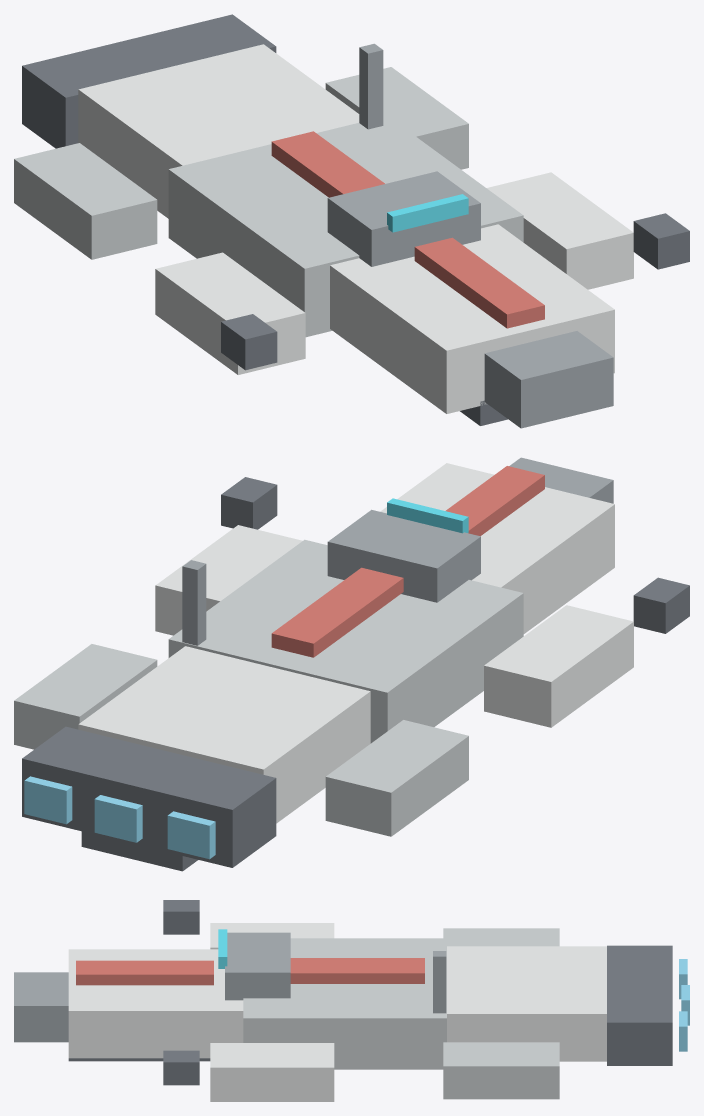
Rendered from micro_blockade_runner_v1.glb.
3 renders of one model, top to bottom at view 1: azimuth 30°, elevation 25°; view 2: azimuth 150°, elevation 25°; view 3: azimuth 270°, elevation 25°, orthographic. The views are drawn at different scales.
Visible parts, largest first — view 1: mid_hull, front_hull, rear_hull, left_pod_rear, engine_block, left_pod_front, nose_cap, right_pod_front, bridge_base, red_spine_front, right_pod_rear, red_spine_mid (+5 smaller); view 2: mid_hull, rear_hull, engine_block, front_hull, left_pod_front, left_pod_rear, bridge_base, right_pod_rear, right_pod_front, red_spine_mid, red_spine_front, left_side_turret (+8 smaller); view 3: mid_hull, rear_hull, front_hull, engine_block, right_pod_front, right_pod_rear, bridge_base, nose_cap, red_spine_front, red_spine_mid, left_pod_rear, left_pod_front (+6 smaller).
Part boxes in pixels (x1=…): mid_hull: x1=168, y1=116, x2=523, y2=337; front_hull: x1=330, y1=224, x2=614, y2=413; rear_hull: x1=78, y1=44, x2=359, y2=218; left_pod_rear: x1=14, y1=143, x2=157, y2=259; engine_block: x1=22, y1=14, x2=276, y2=148; left_pod_front: x1=155, y1=252, x2=305, y2=374; nose_cap: x1=484, y1=331, x2=613, y2=428; right_pod_front: x1=486, y1=172, x2=633, y2=289; bridge_base: x1=327, y1=171, x2=480, y2=266; red_spine_front: x1=414, y1=237, x2=544, y2=328; right_pod_rear: x1=325, y1=67, x2=468, y2=169; red_spine_mid: x1=271, y1=131, x2=384, y2=197; mid_hull: x1=168, y1=539, x2=523, y2=743; rear_hull: x1=78, y1=646, x2=370, y2=823; engine_block: x1=22, y1=726, x2=276, y2=867; front_hull: x1=380, y1=463, x2=614, y2=633; left_pod_front: x1=484, y1=605, x2=633, y2=727; left_pod_rear: x1=325, y1=720, x2=468, y2=836; bridge_base: x1=327, y1=509, x2=480, y2=602; right_pod_rear: x1=14, y1=644, x2=157, y2=749; right_pod_front: x1=155, y1=525, x2=302, y2=635; red_spine_mid: x1=271, y1=567, x2=403, y2=657; red_spine_front: x1=446, y1=466, x2=544, y2=536; left_side_turret: x1=633, y1=577, x2=689, y2=633; mid_hull: x1=243, y1=938, x2=446, y2=1069; rear_hull: x1=447, y1=946, x2=606, y2=1061; front_hull: x1=68, y1=949, x2=243, y2=1058; engine_block: x1=607, y1=945, x2=672, y2=1065; right_pod_front: x1=210, y1=1043, x2=334, y2=1101; right_pod_rear: x1=443, y1=1042, x2=559, y2=1099; bridge_base: x1=225, y1=932, x2=290, y2=1000; nose_cap: x1=14, y1=972, x2=68, y2=1042; red_spine_front: x1=76, y1=960, x2=213, y2=985; red_spine_mid: x1=290, y1=958, x2=424, y2=983; left_pod_rear: x1=443, y1=928, x2=559, y2=946; left_pod_front: x1=210, y1=923, x2=334, y2=949.
Bounding box in the file's own units: 5.28 × 1.84 × 9.29.
